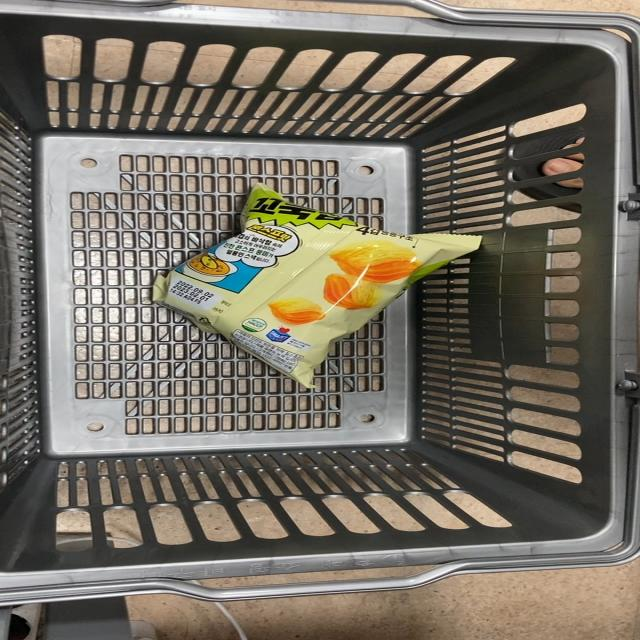ggobukchip: (149, 187, 495, 391)
